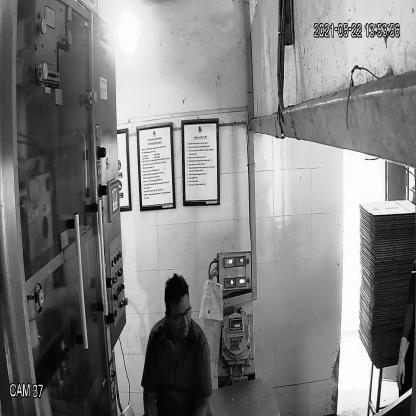goggles: (164, 300, 193, 327)
